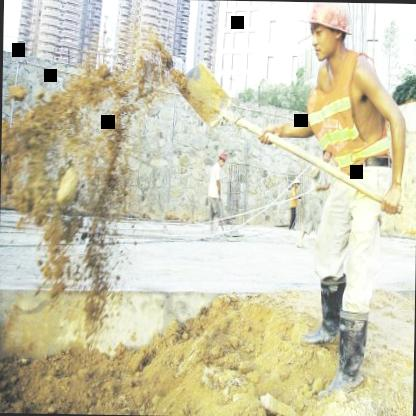helmet: (301, 2, 354, 64), (216, 149, 228, 169)
